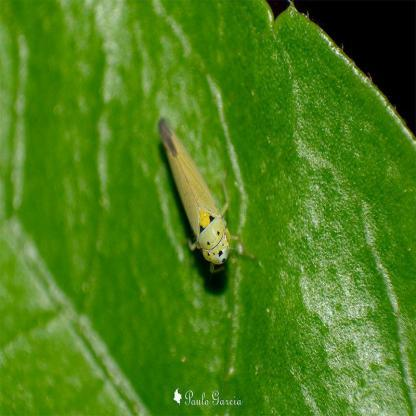green-leafhopper: (157, 115, 254, 276)
